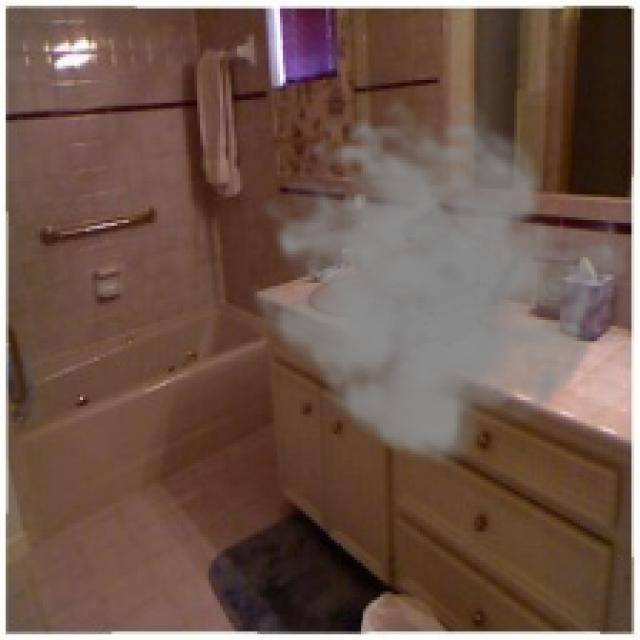smoke: (237, 97, 634, 469)
